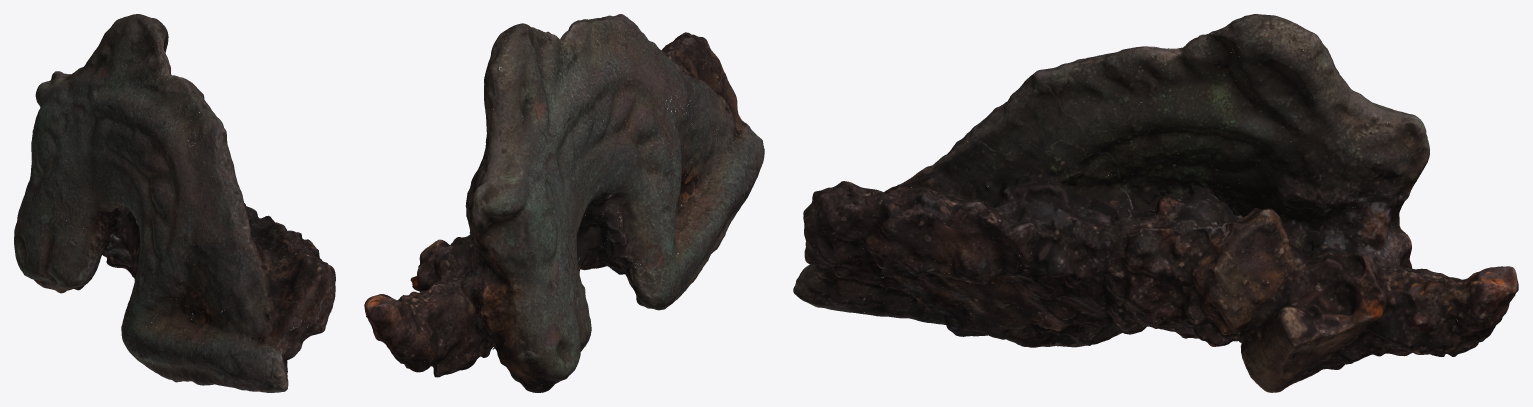
Rendered from horse_low.glb.
3 views of the same model, side by side, from view 1: azimuth 30°, elevation 25°; view 2: azimuth 150°, elevation 25°; view 3: azimuth 270°, elevation 25° (orthographic). The views are drawn at different scales.
Parts seen in each view (by area): view 1: Model; view 2: Model; view 3: Model.
Part boxes in pixels (x1,y1,x2,y2): Model: (14, 14, 335, 392); Model: (364, 14, 764, 392); Model: (793, 14, 1518, 392).
Bounding box in the file's own units: 0.3638 × 0.6218 × 1.1.
1 material, 1 textured.
